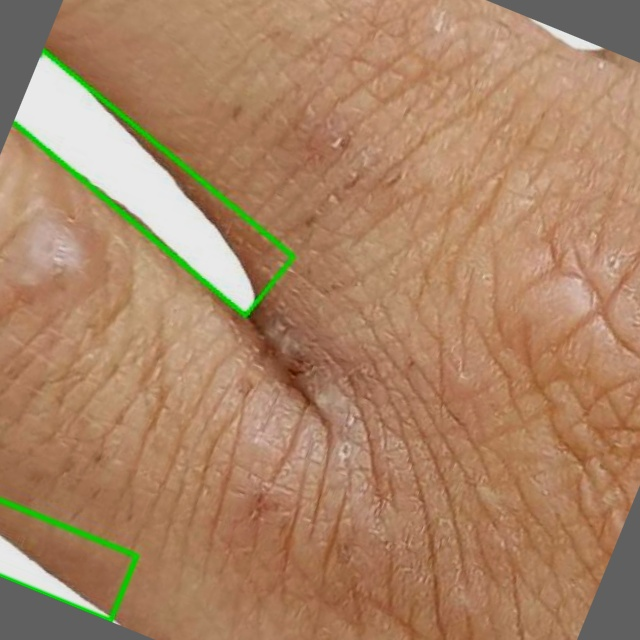Scabies: (16, 45, 295, 316)
